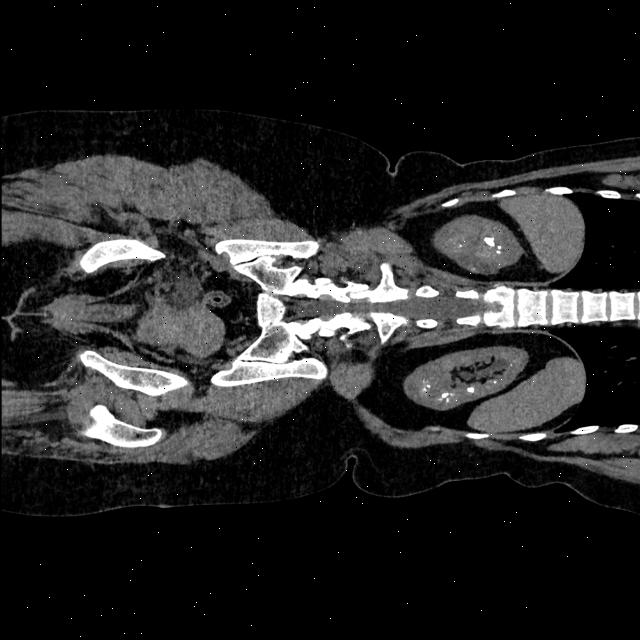kidneystone: (483, 238, 493, 246)
